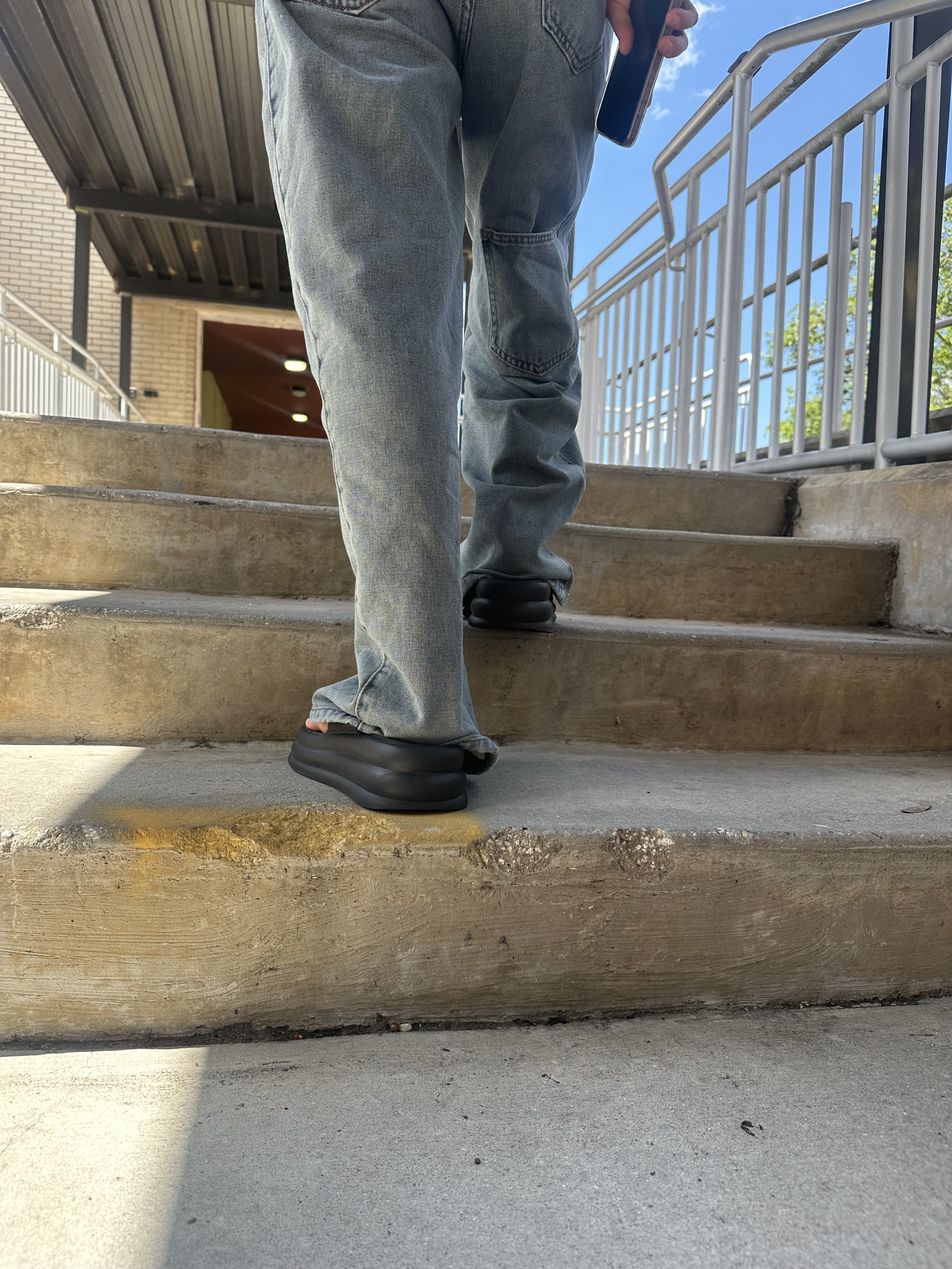stairs: (1, 414, 952, 1044)
